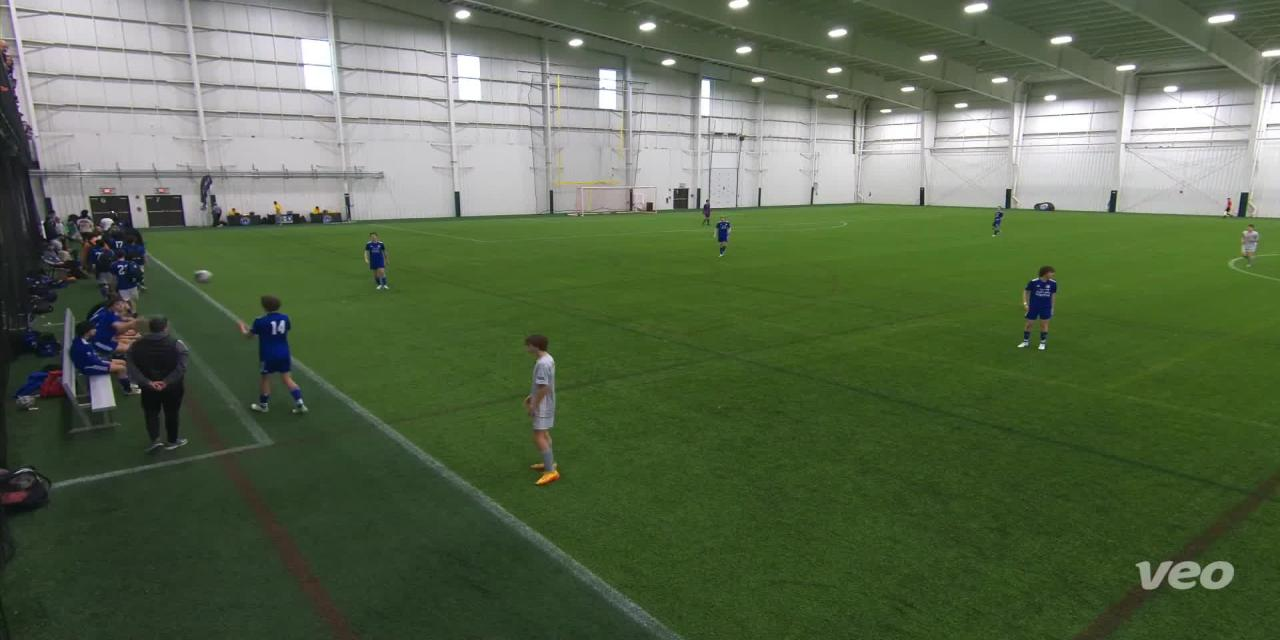goal: (565, 182, 666, 218)
sports ball: (188, 267, 221, 290)
